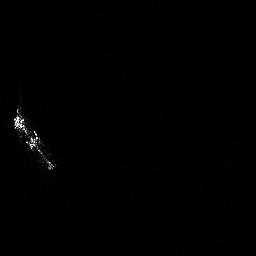ship: (10, 103, 59, 176)
